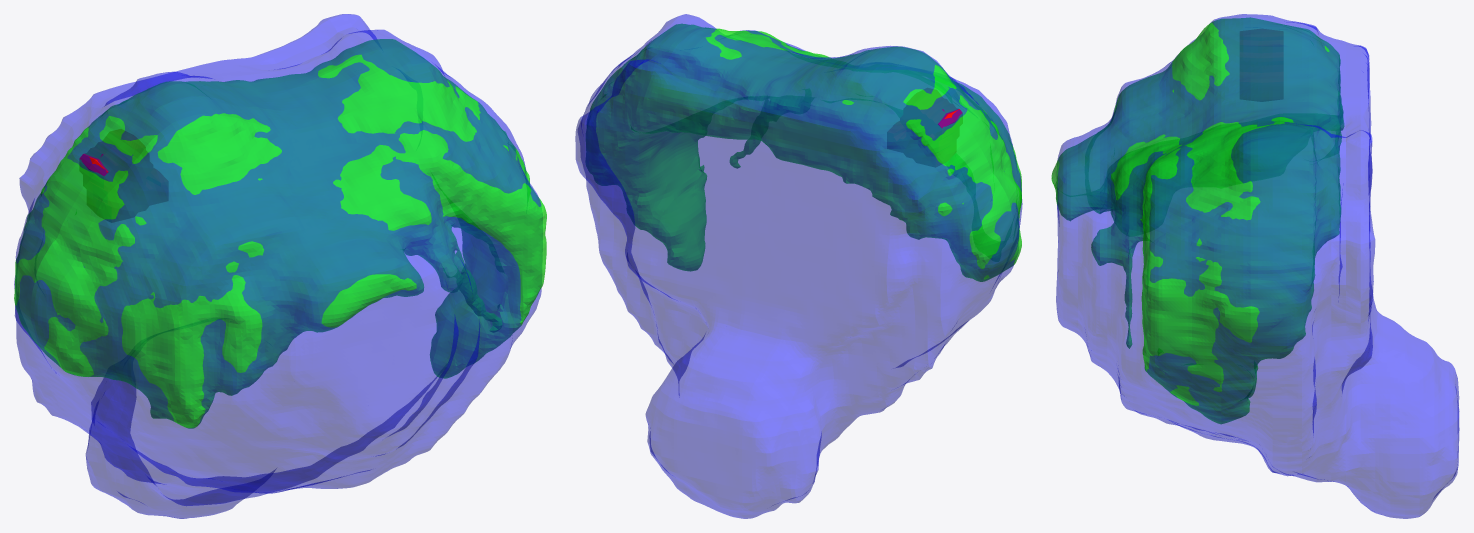
File: NCKU_Test_32.glb
The picture shows the model from 3 angles, left to right: view 1: azimuth 30°, elevation 25°; view 2: azimuth 150°, elevation 25°; view 3: azimuth 270°, elevation 25°; orthographic projection. The views are drawn at different scales.
Visible parts, largest first — view 1: model_gland.obj, model_pz.obj; view 2: model_gland.obj, model_pz.obj; view 3: model_gland.obj, model_pz.obj.
Part boxes in pixels (box(x1,y1,x2,y2)): model_gland.obj: box(14, 14, 541, 518); model_pz.obj: box(14, 39, 546, 428); model_gland.obj: box(575, 14, 1022, 518); model_pz.obj: box(586, 24, 1021, 281); model_gland.obj: box(1056, 14, 1459, 518); model_pz.obj: box(1051, 17, 1344, 423).
Size of the model in its own units: 0.0518 by 0.0504 by 0.0417.
